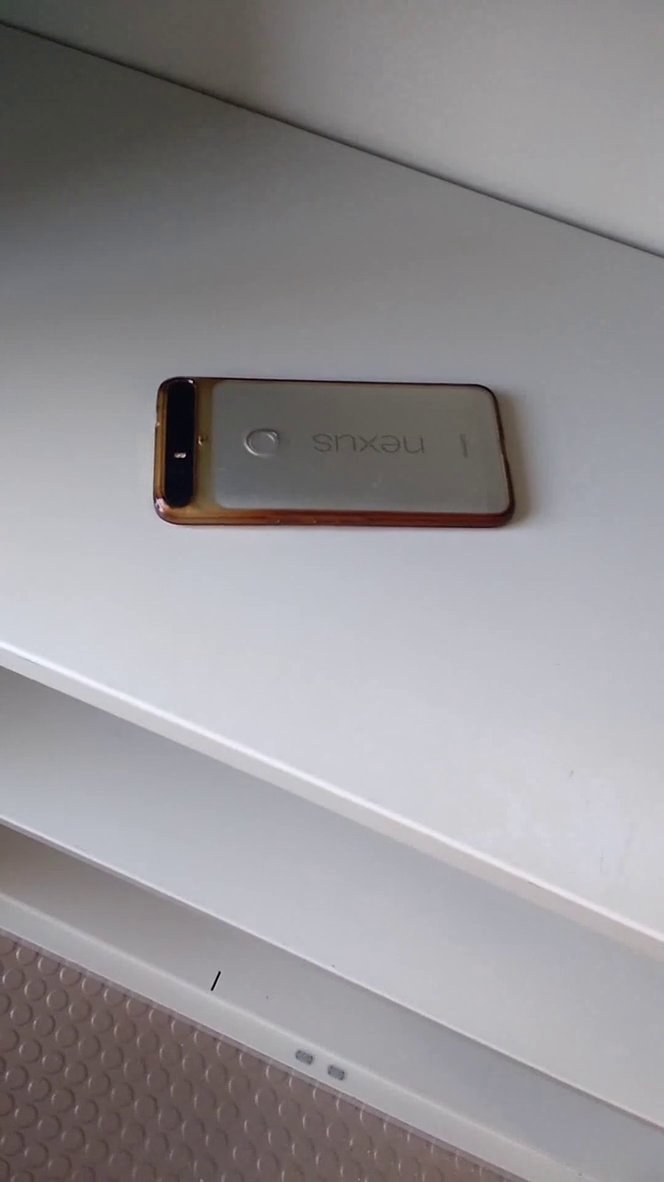phone: (144, 352, 540, 542)
